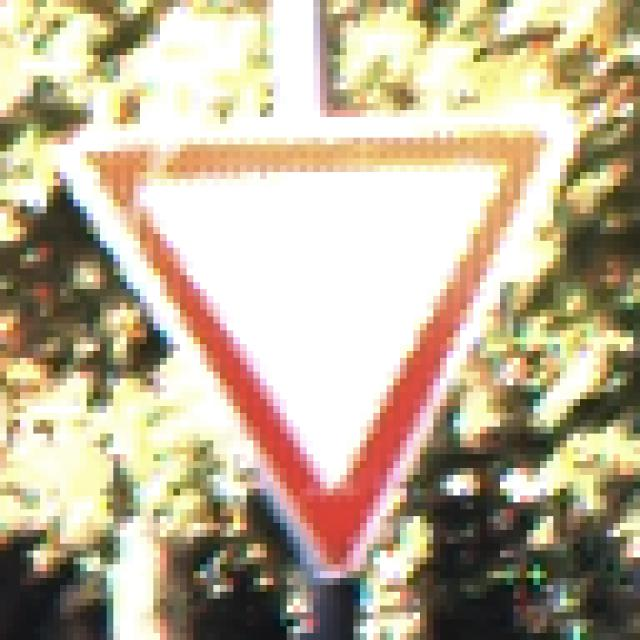Give Way: (61, 63, 588, 579)
